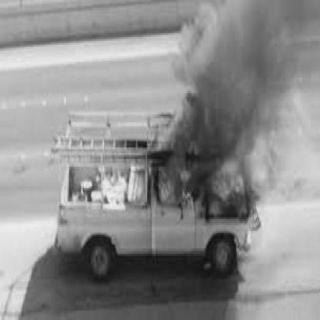Fire: (152, 88, 206, 210)
Smoke: (178, 7, 298, 180)
